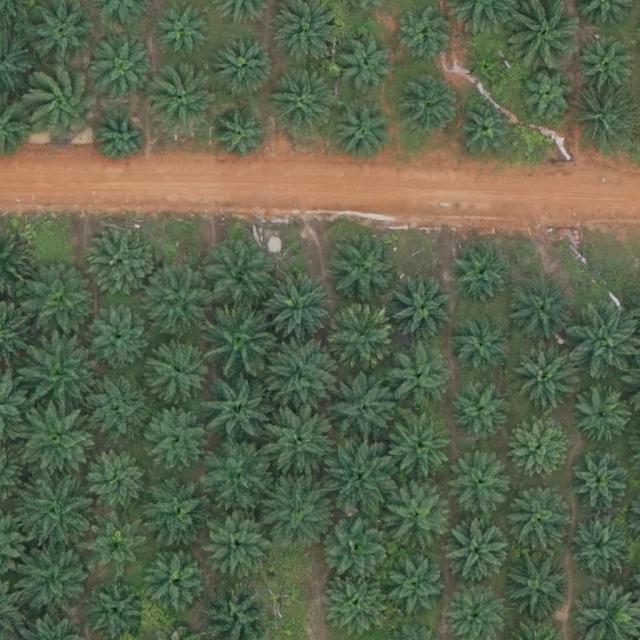Healthy: (26, 67, 104, 146), (324, 437, 395, 508), (329, 233, 400, 304), (265, 273, 336, 344), (265, 403, 336, 474), (261, 477, 332, 548), (202, 441, 273, 512), (25, 404, 96, 475), (569, 307, 640, 377), (509, 276, 579, 347), (382, 345, 452, 416), (381, 477, 452, 547), (329, 373, 399, 444), (207, 515, 277, 586), (207, 304, 277, 375), (206, 242, 276, 313), (147, 266, 217, 337), (143, 475, 213, 546), (81, 372, 151, 443), (86, 230, 157, 300), (22, 268, 93, 338), (22, 477, 92, 548), (22, 547, 92, 618), (267, 68, 337, 139), (263, 344, 333, 414), (203, 375, 273, 445), (24, 340, 94, 410), (151, 65, 221, 135), (509, 557, 572, 620), (447, 519, 510, 582), (390, 280, 453, 343), (389, 418, 452, 481), (327, 572, 390, 635), (147, 407, 210, 470), (87, 576, 150, 639), (332, 103, 395, 166), (214, 35, 277, 98), (568, 514, 630, 577), (507, 420, 570, 482), (508, 486, 570, 549), (450, 380, 512, 443), (451, 244, 513, 307), (325, 516, 387, 579), (148, 338, 210, 401), (148, 554, 210, 617), (84, 446, 146, 509), (87, 301, 149, 364), (577, 33, 639, 96), (519, 64, 581, 127), (399, 76, 461, 139), (515, 350, 577, 412), (452, 453, 514, 515), (452, 315, 514, 377), (385, 555, 447, 617), (87, 513, 149, 575), (94, 40, 156, 102), (569, 456, 624, 511), (215, 112, 270, 167), (94, 112, 149, 167), (460, 101, 514, 157), (160, 4, 214, 60), (575, 386, 629, 441), (398, 8, 452, 63), (340, 36, 394, 91)
Small: (470, 50, 509, 89)
Yellow: (327, 304, 397, 374)
